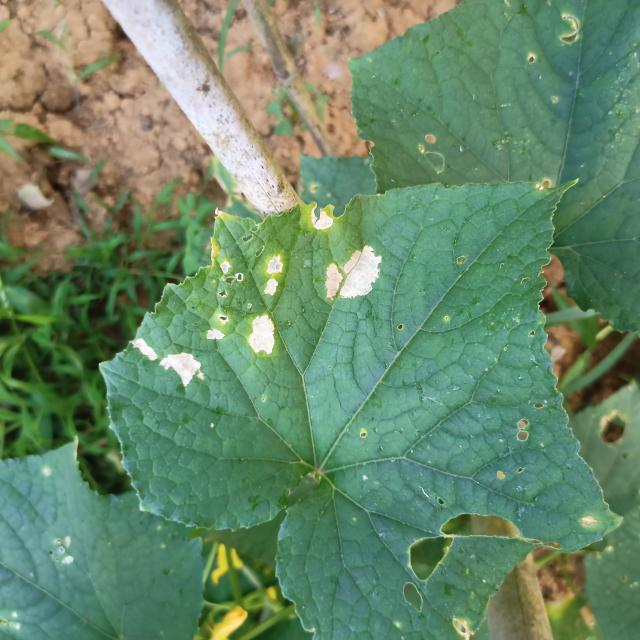disease_cucumber: (204, 248, 299, 364), (122, 337, 204, 393), (320, 240, 386, 306), (300, 201, 339, 234)
